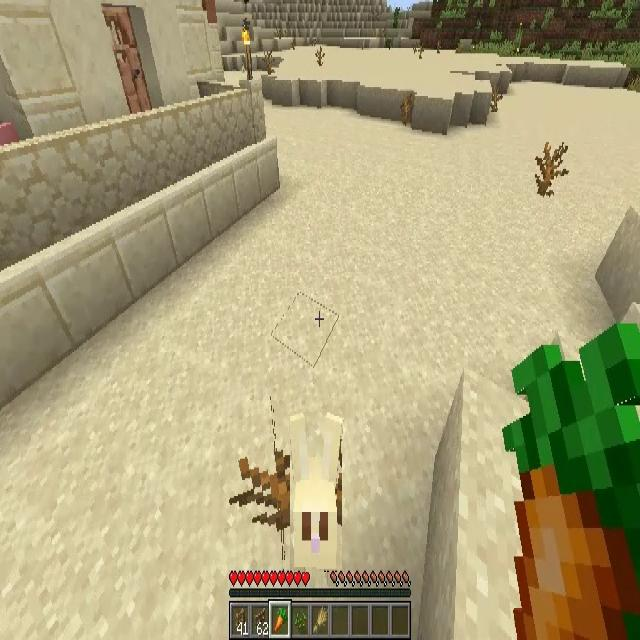rabbit: (290, 412, 342, 572)
